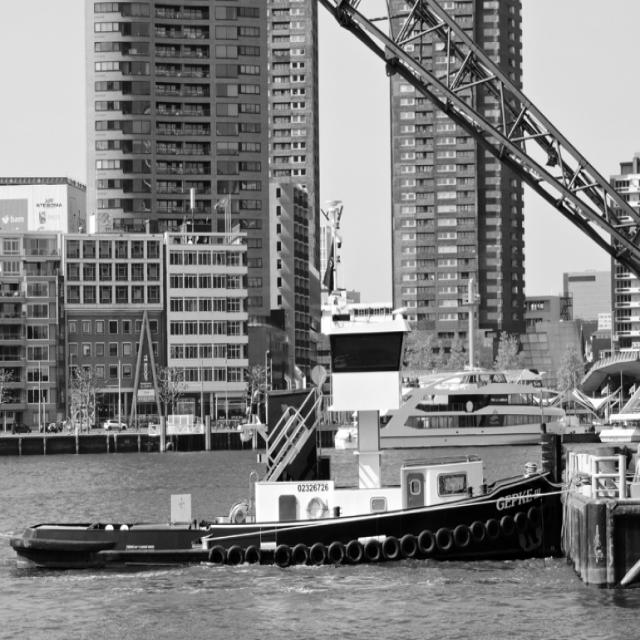tugboat: (7, 371, 569, 589)
